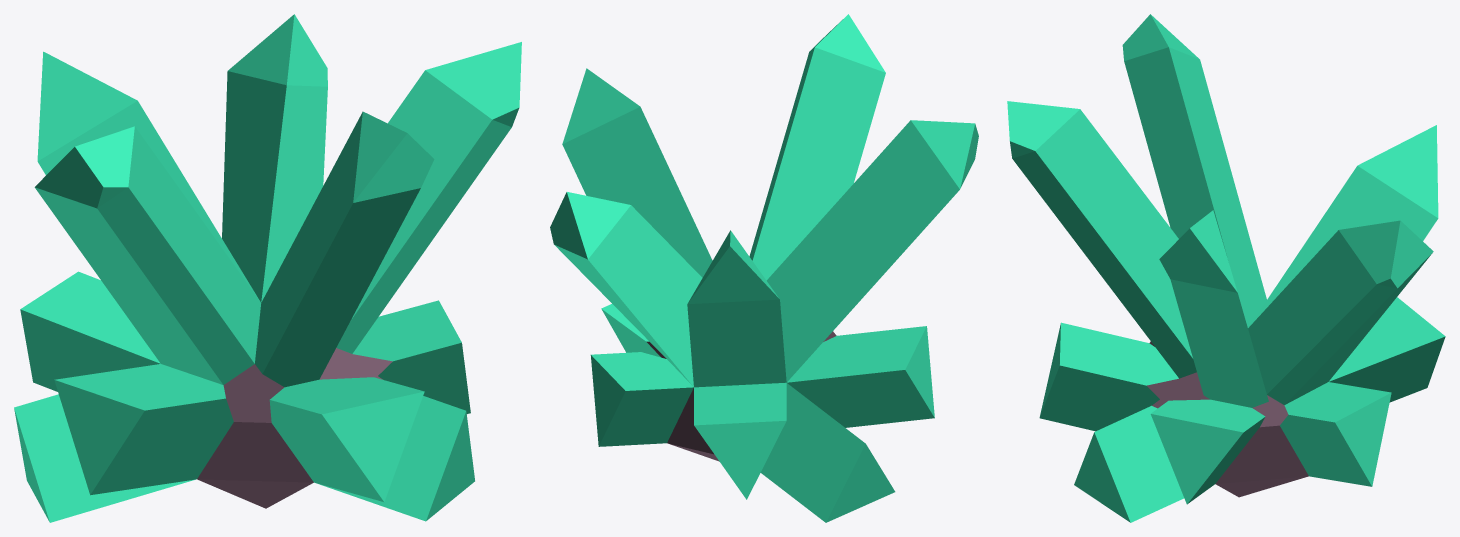
The model's file is otherIsland01.fbx.
3 views of the same model, side by side, from view 1: azimuth 30°, elevation 25°; view 2: azimuth 150°, elevation 25°; view 3: azimuth 270°, elevation 25° (orthographic). The views are drawn at different scales.
Visible parts, largest first — view 1: Icosphere.014; view 2: Icosphere.014; view 3: Icosphere.014.
Boxes of the visible parts, x1=… form: Icosphere.014: x1=14, y1=14, x2=521, y2=522; Icosphere.014: x1=550, y1=14, x2=978, y2=522; Icosphere.014: x1=1007, y1=14, x2=1445, y2=522.
Bounding box in the file's own units: 1238 × 1167 × 1166.
